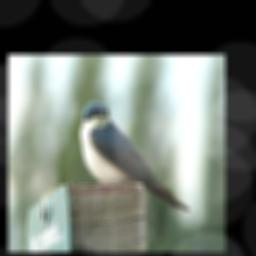Swallow: (79, 101, 190, 213)
